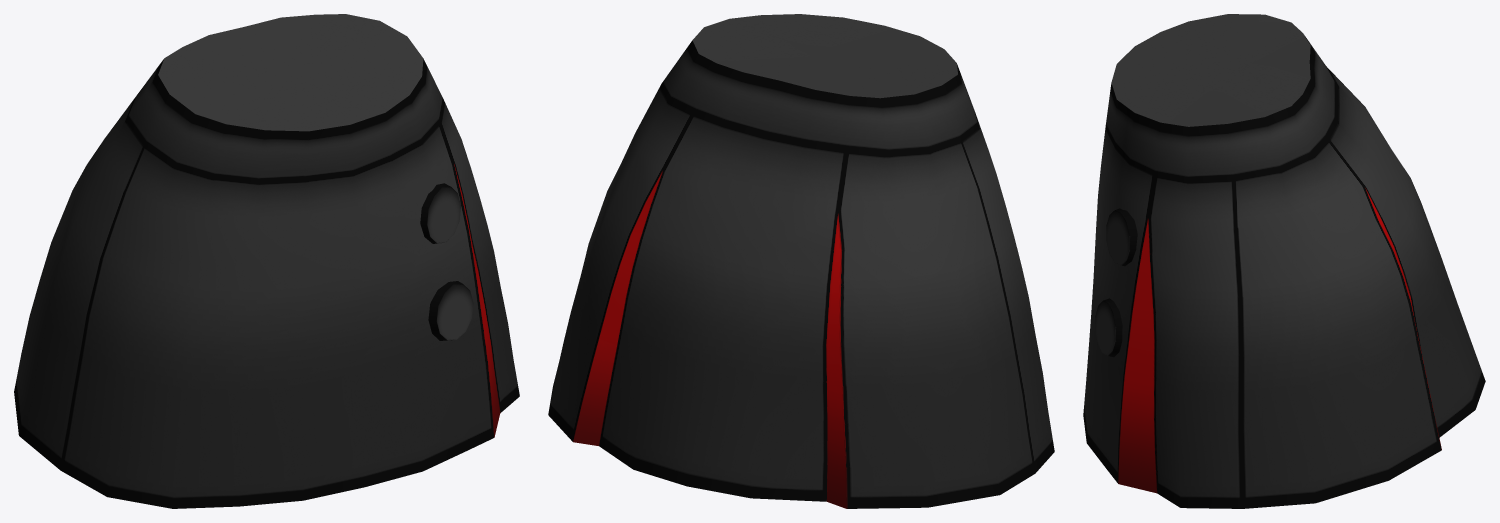
File: F_Lower_duanqun_01_he.FBX
3 renders of one model, left to right at view 1: azimuth 30°, elevation 25°; view 2: azimuth 150°, elevation 25°; view 3: azimuth 270°, elevation 25°, orthographic. The views are drawn at different scales.
Parts seen in each view (by area): view 1: F_Lower_duanqun_01_he; view 2: F_Lower_duanqun_01_he; view 3: F_Lower_duanqun_01_he.
Part boxes in pixels (x1,y1,x2,y2): F_Lower_duanqun_01_he: (14, 14, 519, 508); F_Lower_duanqun_01_he: (548, 14, 1054, 508); F_Lower_duanqun_01_he: (1083, 14, 1485, 508).
Size of the model in its own units: 34.58 by 27.63 by 28.48.
1 material, 1 textured.
